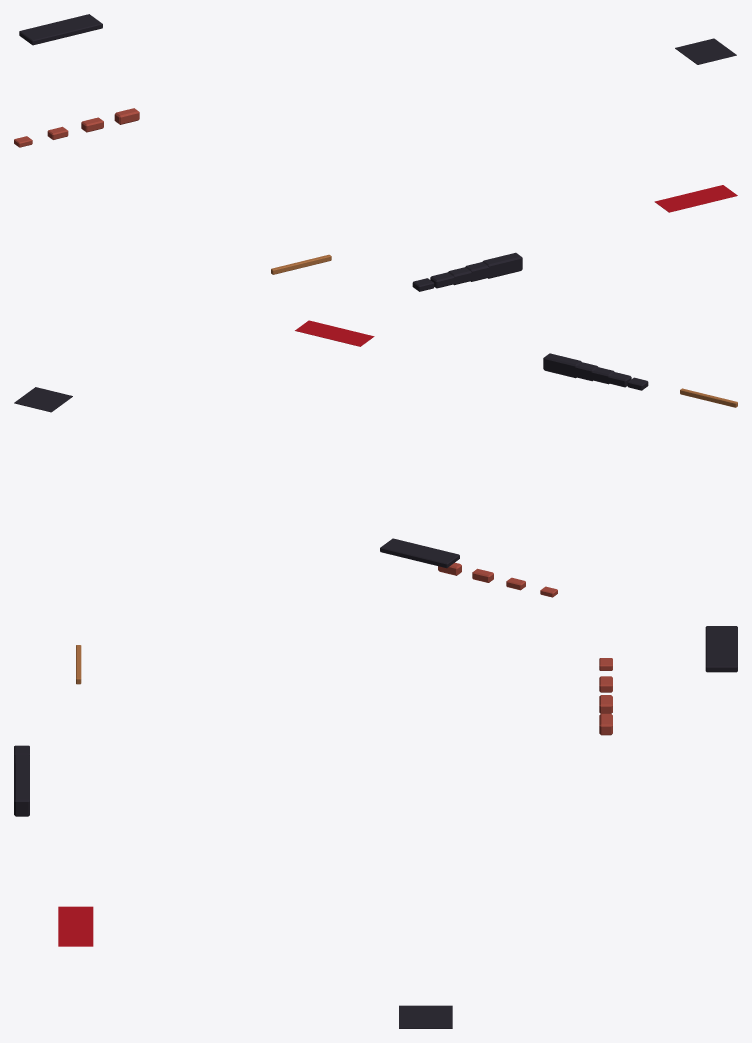
File: D-EDGE.w5.glb
3 views of the same model, one above another, from view 1: azimuth 30°, elevation 25°; view 2: azimuth 150°, elevation 25°; view 3: azimuth 270°, elevation 25° (orthographic). The views are drawn at different scales.
Visible parts, largest first — view 1: pal_uiDark.003, pal_blood.003, pal_brick.003; view 2: pal_uiDark.003, pal_blood.003, pal_brick.003; view 3: pal_uiDark.003, pal_blood.003, pal_brick.003.
Boxes of the visible parts, bbox=[...] form: pal_uiDark.003: bbox=[19, 14, 736, 291]; pal_blood.003: bbox=[654, 185, 737, 212]; pal_brick.003: bbox=[14, 108, 139, 147]; pal_uiDark.003: bbox=[14, 353, 648, 568]; pal_blood.003: bbox=[295, 320, 374, 346]; pal_brick.003: bbox=[438, 562, 557, 597]; pal_uiDark.003: bbox=[14, 626, 737, 1028]; pal_blood.003: bbox=[58, 906, 93, 946]; pal_brick.003: bbox=[599, 658, 612, 735].
Size of the model in its own units: 32.15 by 3.15 by 26.9.
